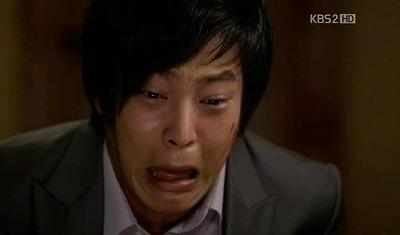sad: (109, 28, 235, 208)
